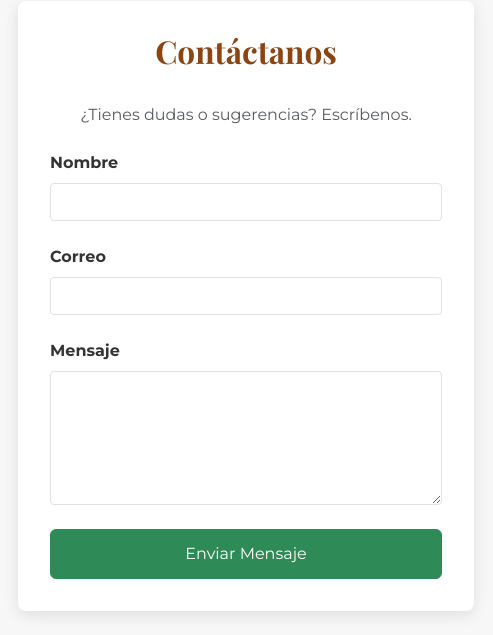
Página ContactoPage › muestra un error si el envío falla
The image size is (493, 635).
Type "Ana Soto" into the field labelled "Nombre" at (246, 202), box x1=50 y1=183 x2=442 y2=221
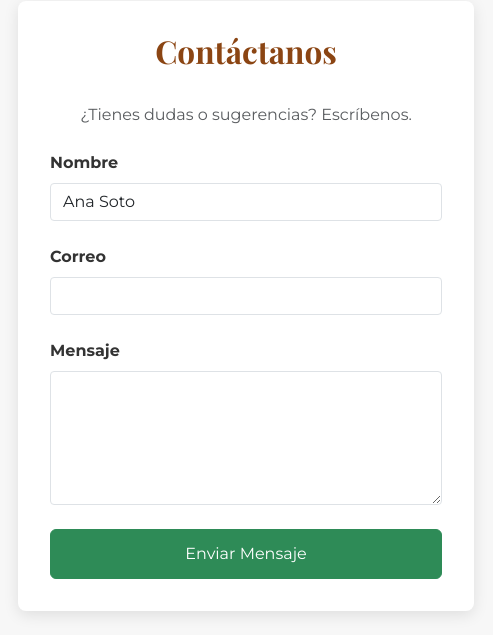
Type "ana@test.cl" into the field labelled "Correo" at (246, 296), box x1=50 y1=277 x2=442 y2=315
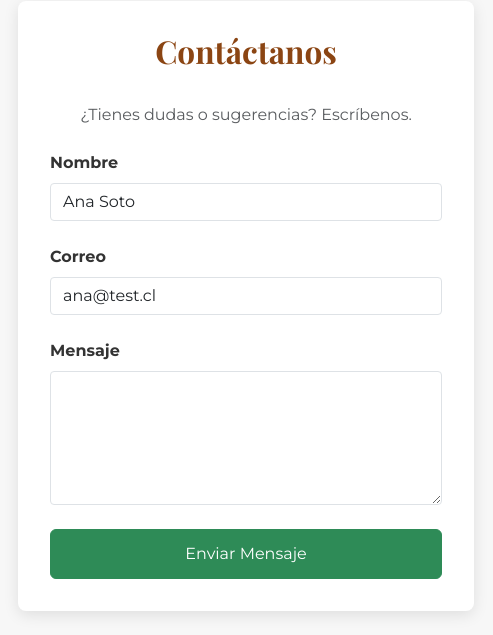
Type "Hola" into the text box labelled "Mensaje" at (246, 438), box x1=50 y1=371 x2=442 y2=505
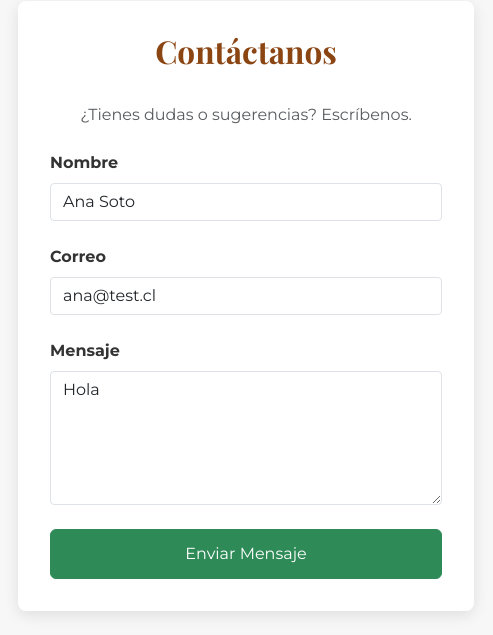
Click the button "Enviar Mensaje" at (246, 554), box x1=50 y1=529 x2=442 y2=579
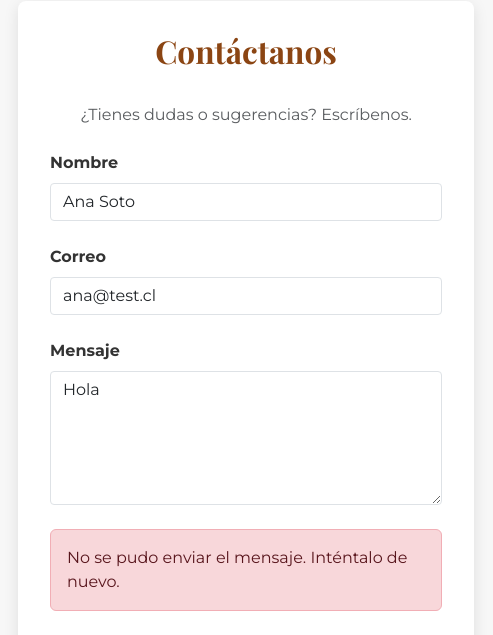
Check: the text "No se pudo enviar el mensaje. Inténtalo de nuevo." is shown, box x1=50 y1=529 x2=442 y2=611
